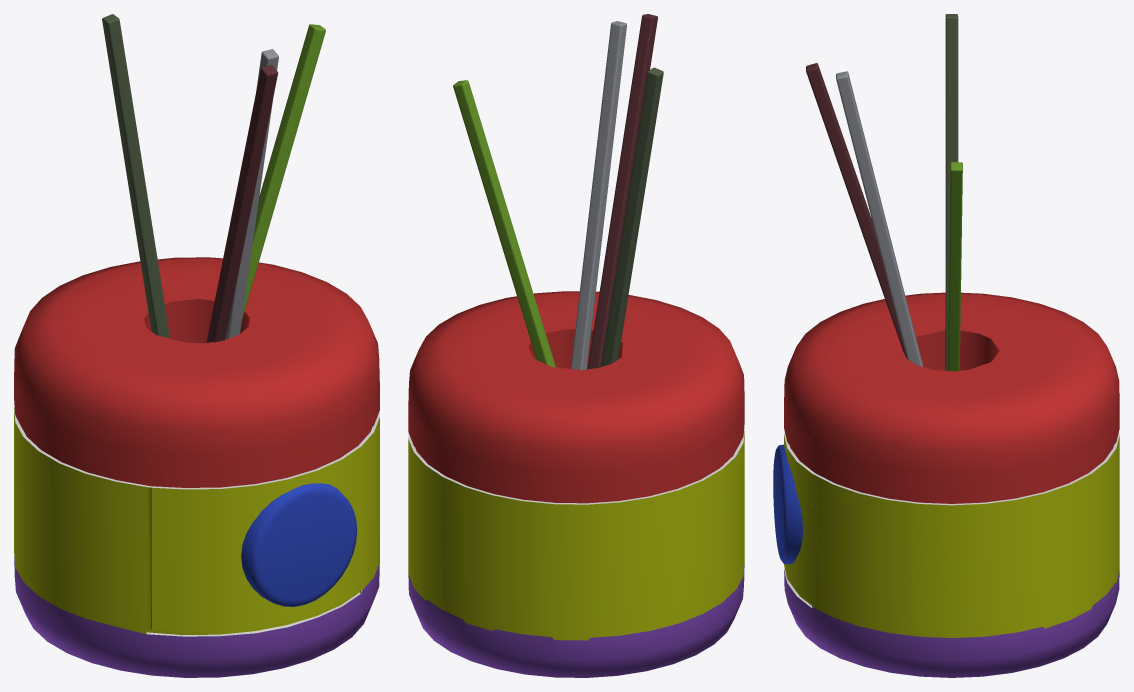
Rendered from Container_Style_13.fbx.
The picture shows the model from 3 angles, left to right: view 1: azimuth 30°, elevation 25°; view 2: azimuth 150°, elevation 25°; view 3: azimuth 270°, elevation 25°; orthographic projection. The views are drawn at different scales.
Parts seen in each view (by area): view 1: SetA_Container_Style_13; view 2: SetA_Container_Style_13; view 3: SetA_Container_Style_13.
Boxes of the visible parts, <box> form: SetA_Container_Style_13: <box>14,14,379,677</box>; SetA_Container_Style_13: <box>408,14,744,677</box>; SetA_Container_Style_13: <box>773,14,1119,677</box>.
Bounding box in the file's own units: 0.1953 × 0.3636 × 0.2016.
